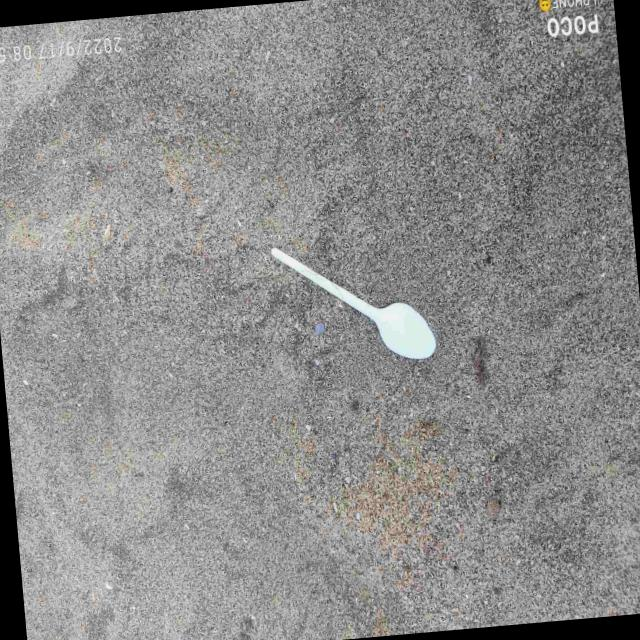nhua: (271, 247, 435, 359)
